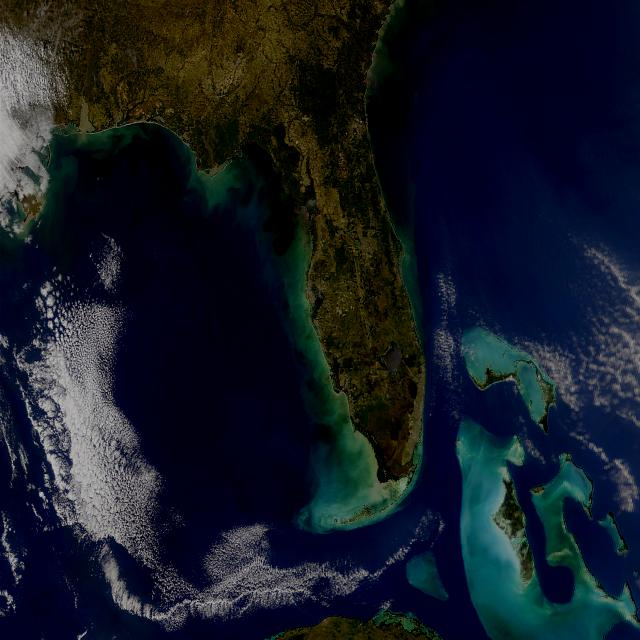algal: (457, 420, 639, 639), (294, 318, 410, 532), (462, 328, 555, 432)
